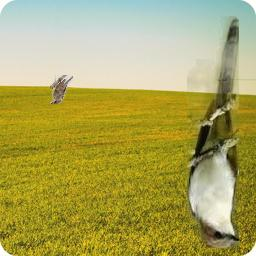Cuckoo: (187, 16, 239, 248), (51, 76, 74, 105)
